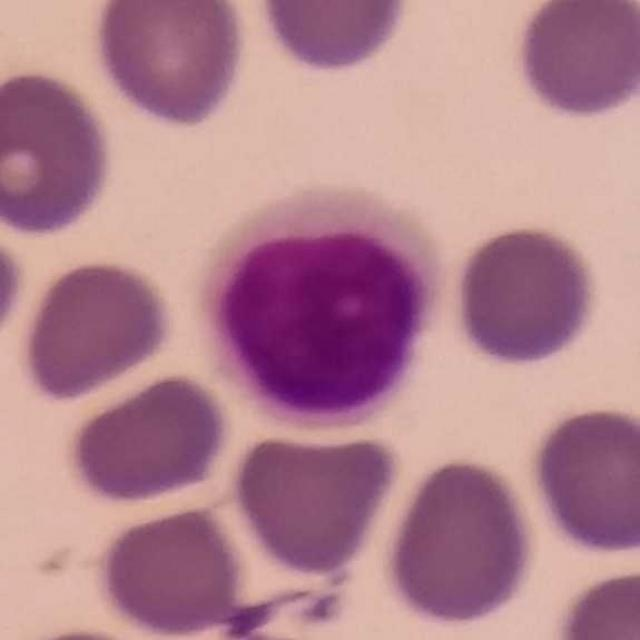Lymphocyte: (199, 172, 444, 433)
RBC: (377, 453, 543, 631), (227, 423, 405, 578), (16, 255, 178, 405), (61, 369, 235, 508), (449, 220, 602, 371), (93, 502, 250, 639), (89, 0, 251, 131), (0, 65, 118, 239), (526, 401, 640, 560), (511, 0, 640, 122), (252, 0, 415, 79), (550, 564, 640, 640), (0, 217, 28, 353)
